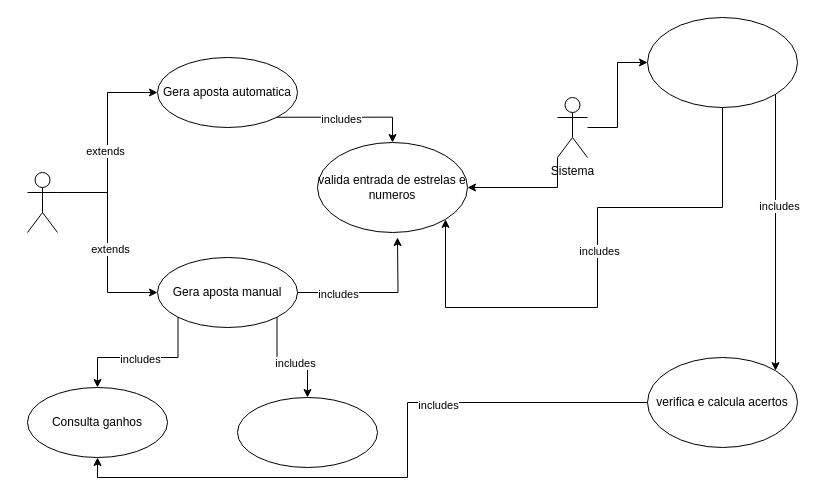
Image size: 817x503. Some labels were removed from this diagram. Each missing label, with the centre of its shape:
gera a chave vencedora: the point at 722,62
Utilizador: the point at 42,202
Ver chave vencedora: the point at 307,432
